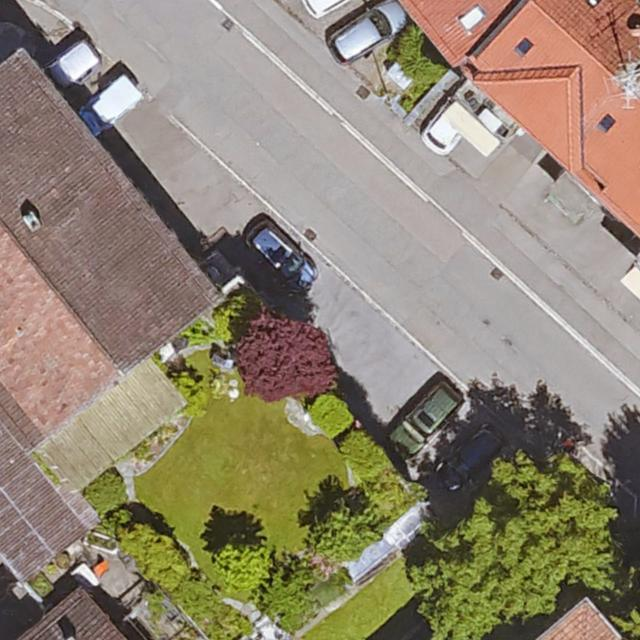tree: (420, 457, 640, 640), (234, 312, 338, 401), (310, 501, 377, 556), (214, 536, 273, 592)
